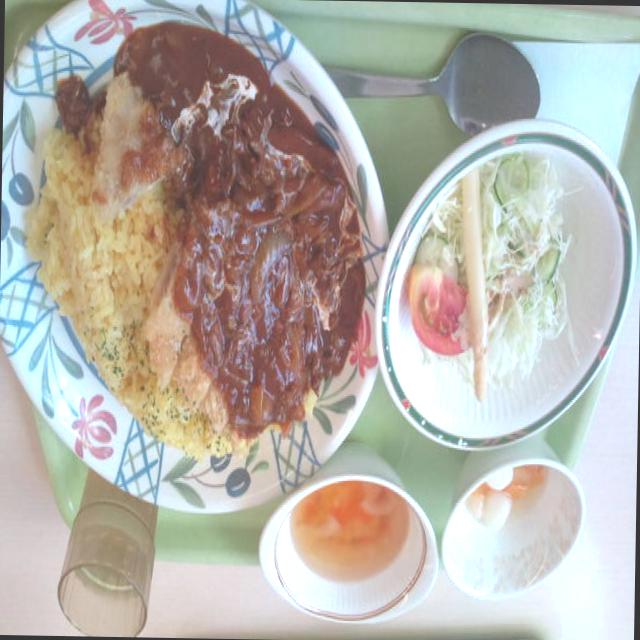Green Salad: (415, 172, 574, 394)
